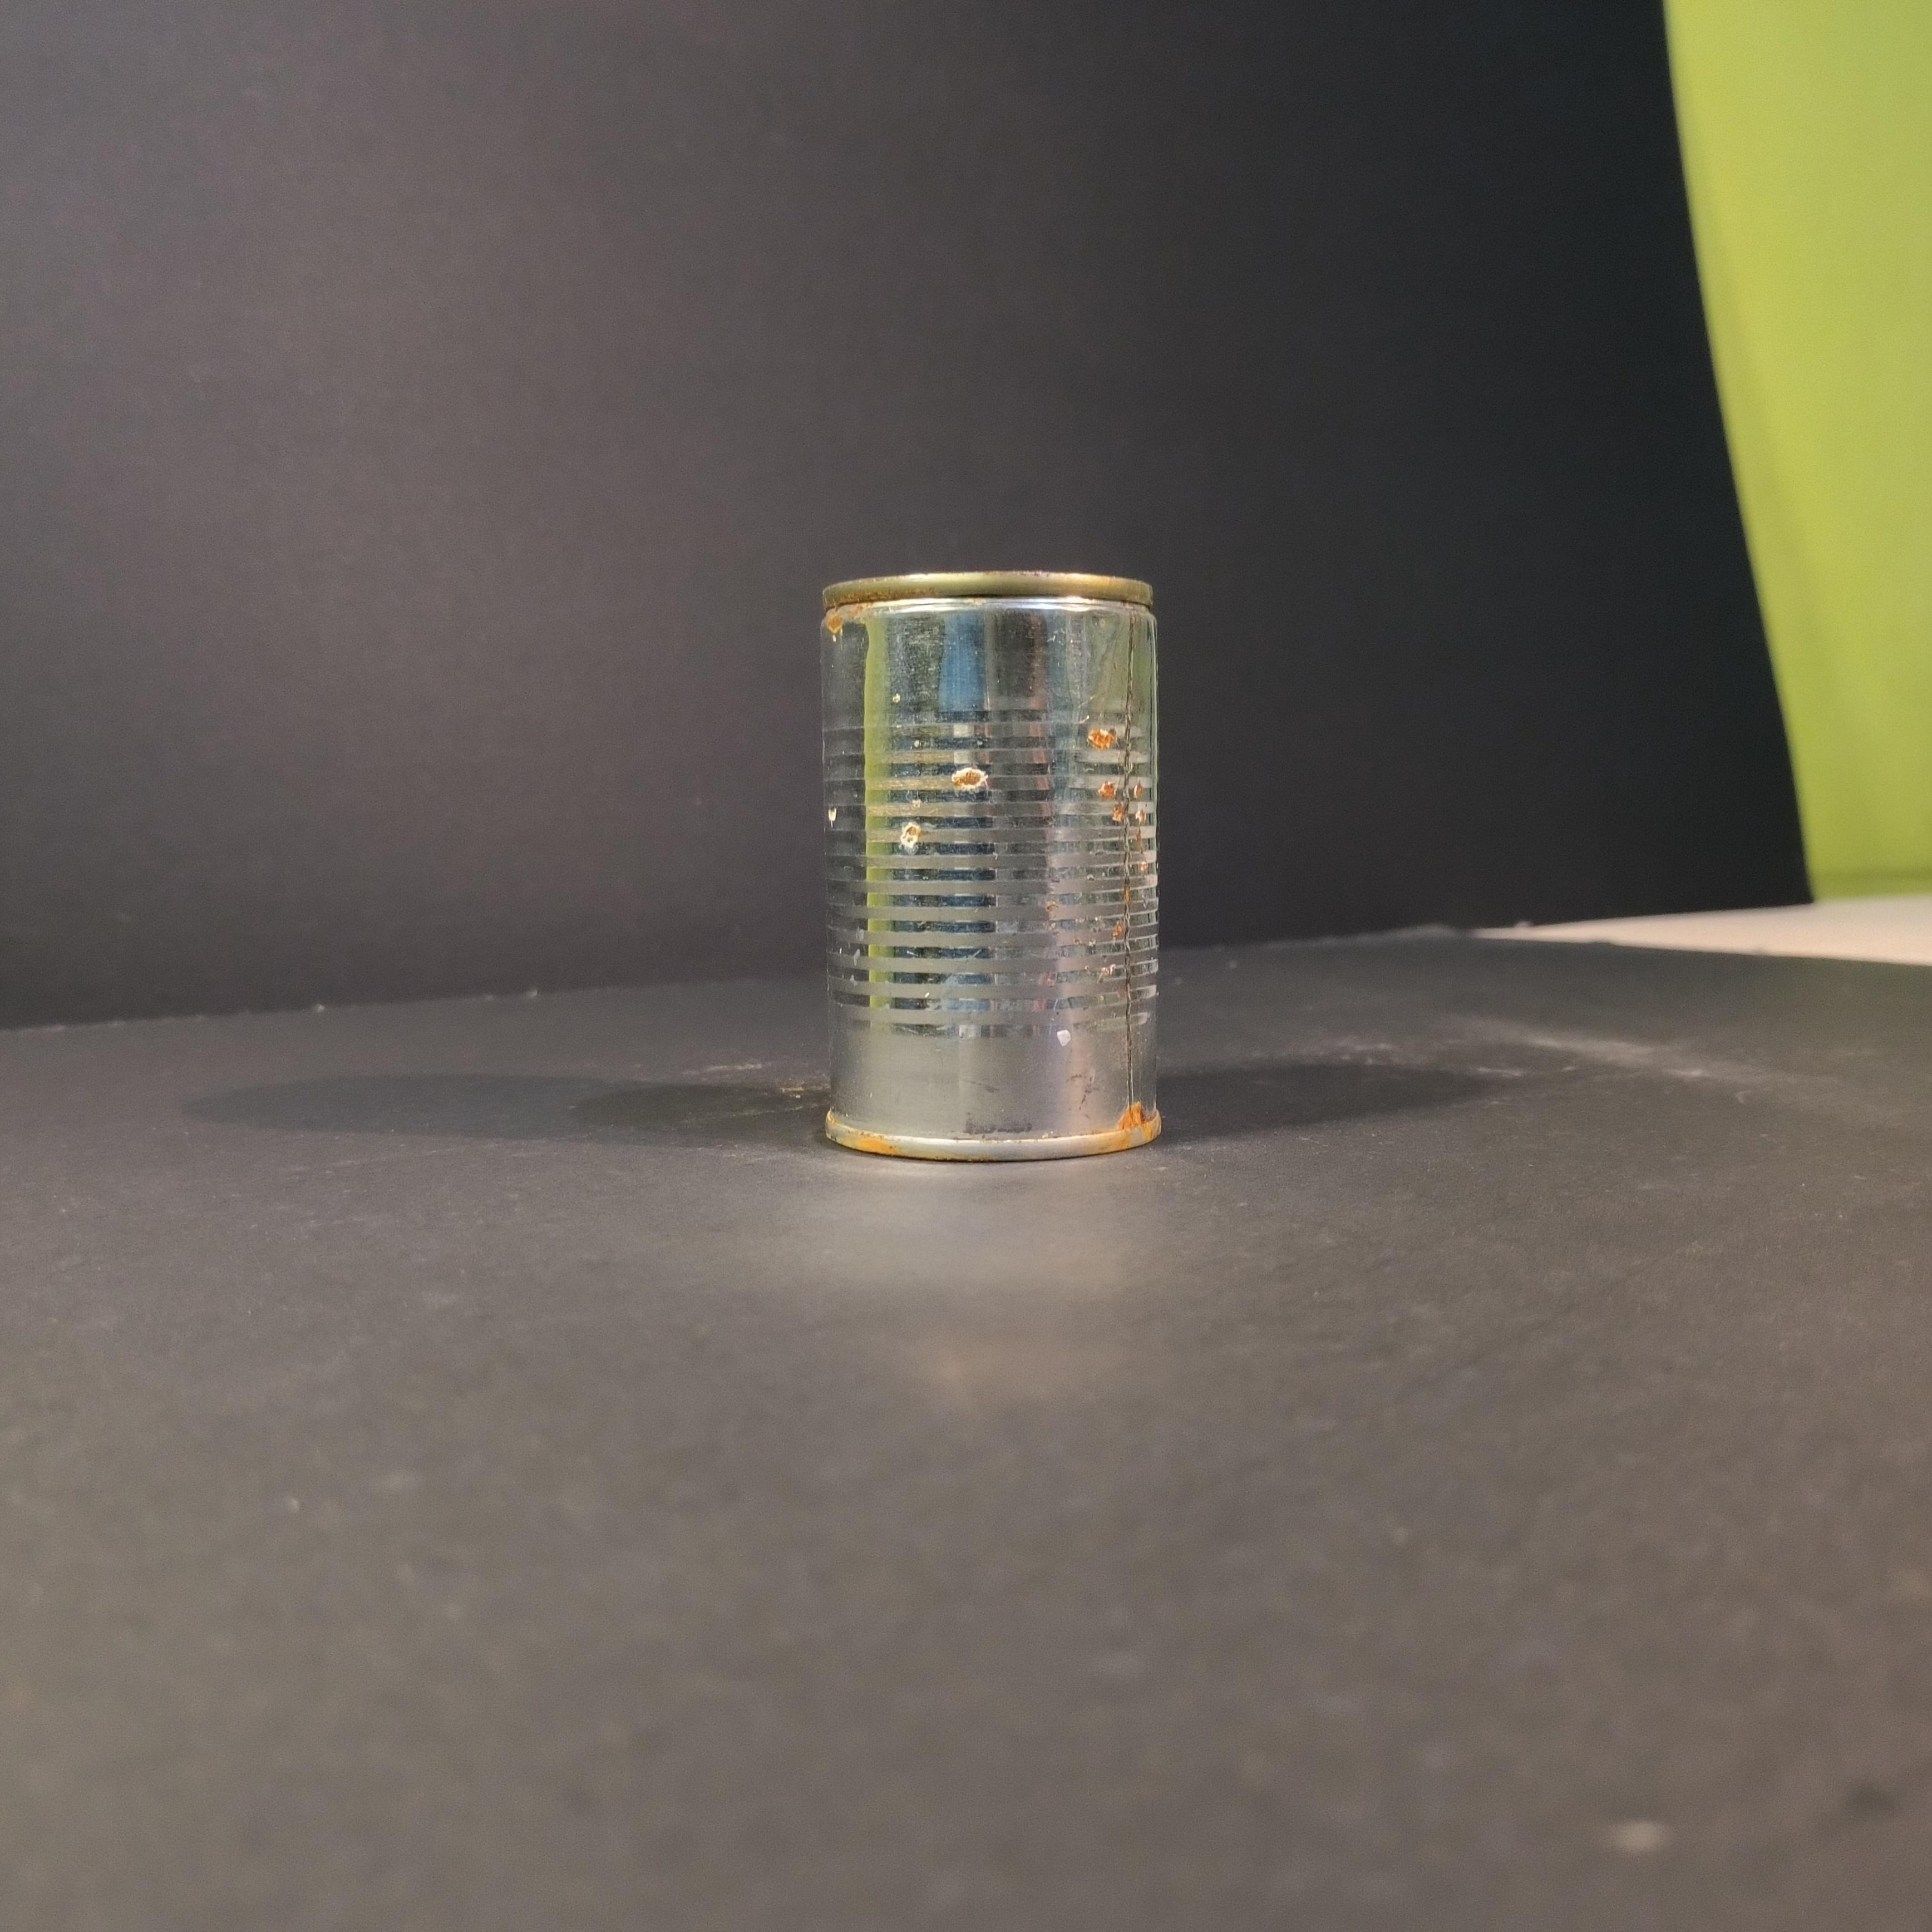Rusted: (810, 548, 1187, 1182)
